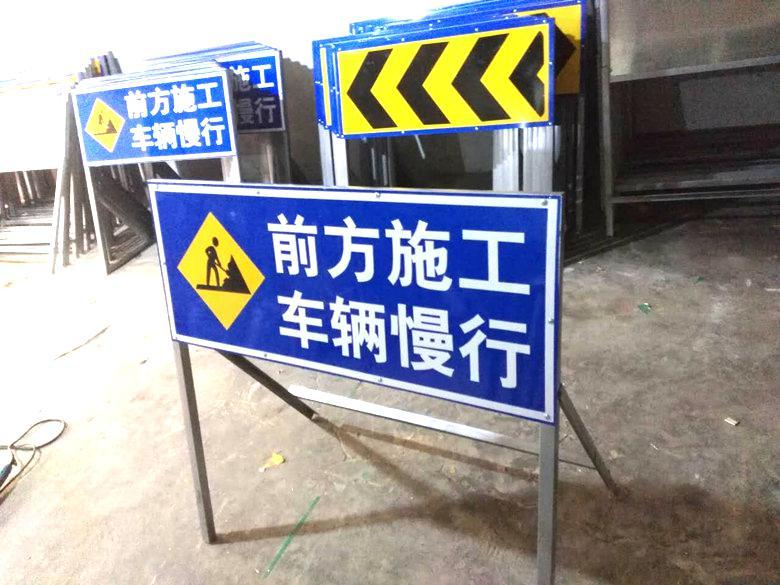sign: (150, 179, 558, 428), (81, 82, 228, 158)
